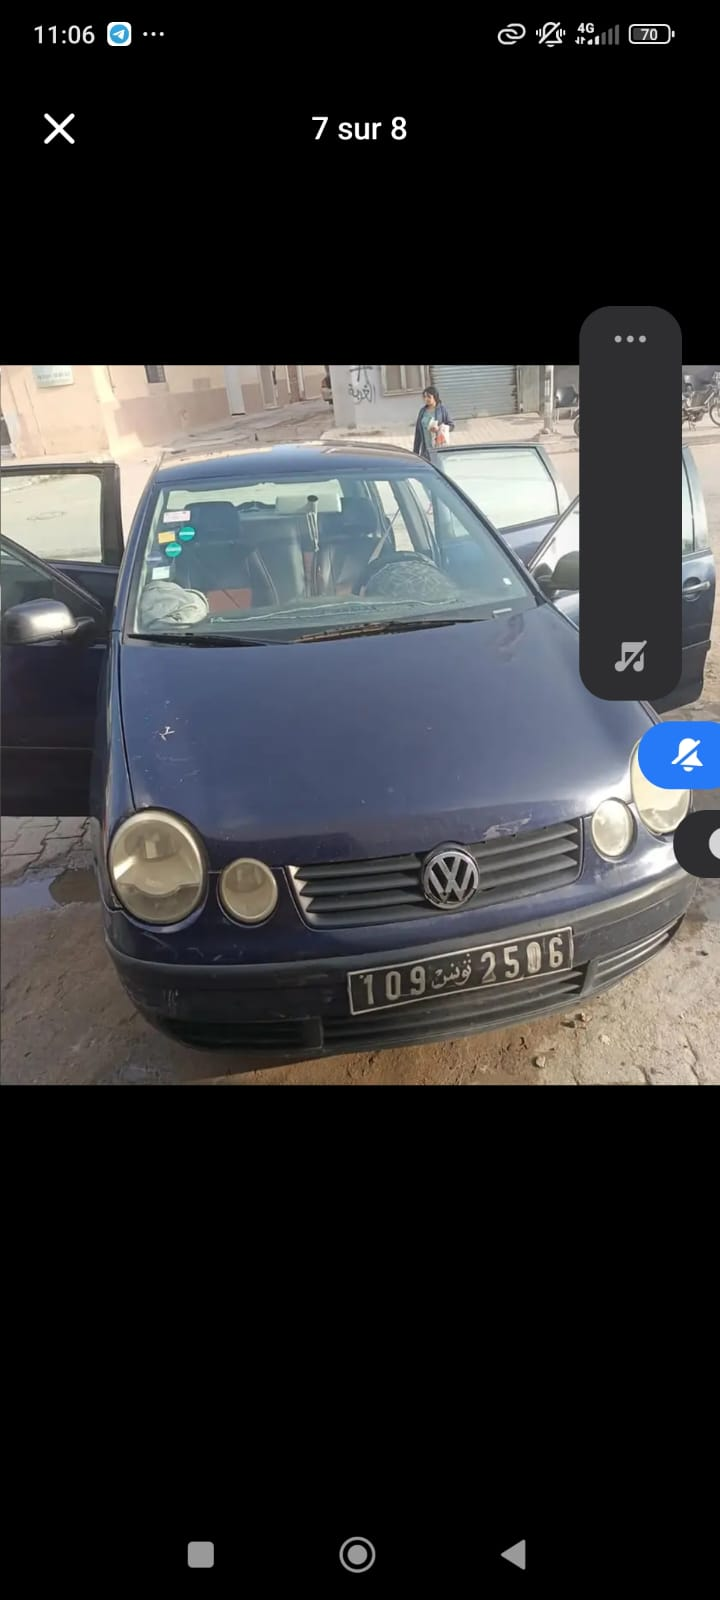volkswagen: (3, 440, 570, 1018)
